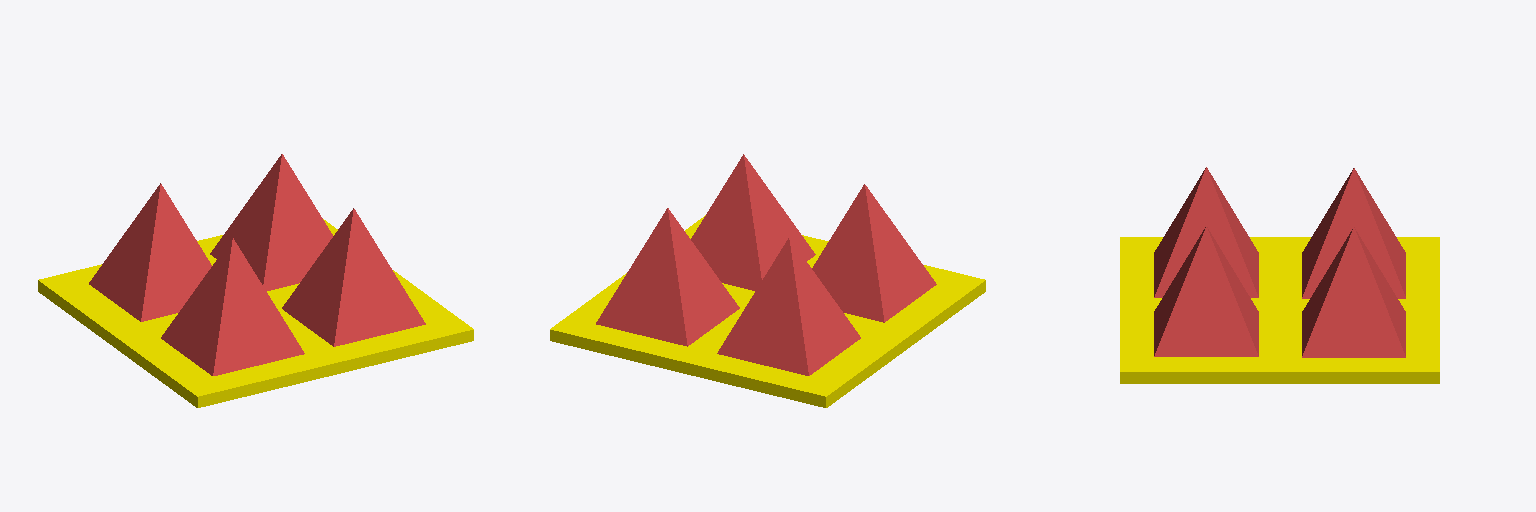
The picture shows the model from 3 angles: view 1: azimuth 30°, elevation 25°; view 2: azimuth 150°, elevation 25°; view 3: azimuth 270°, elevation 25°; orthographic projection.
Visible parts, largest first — view 1: Pyramid002, Cube_Cube.000; view 2: Pyramid002, Cube_Cube.000; view 3: Pyramid002, Cube_Cube.000.
Boxes of the visible parts, <box> form: Pyramid002: <box>89,154,425,375</box>; Cube_Cube.000: <box>38,219,473,407</box>; Pyramid002: <box>596,154,936,375</box>; Cube_Cube.000: <box>550,215,985,407</box>; Pyramid002: <box>1154,167,1405,357</box>; Cube_Cube.000: <box>1120,237,1439,383</box>.
Bounding box in the file's own units: 50 × 20.79 × 50.
Materials: 2 (1 with a texture image).